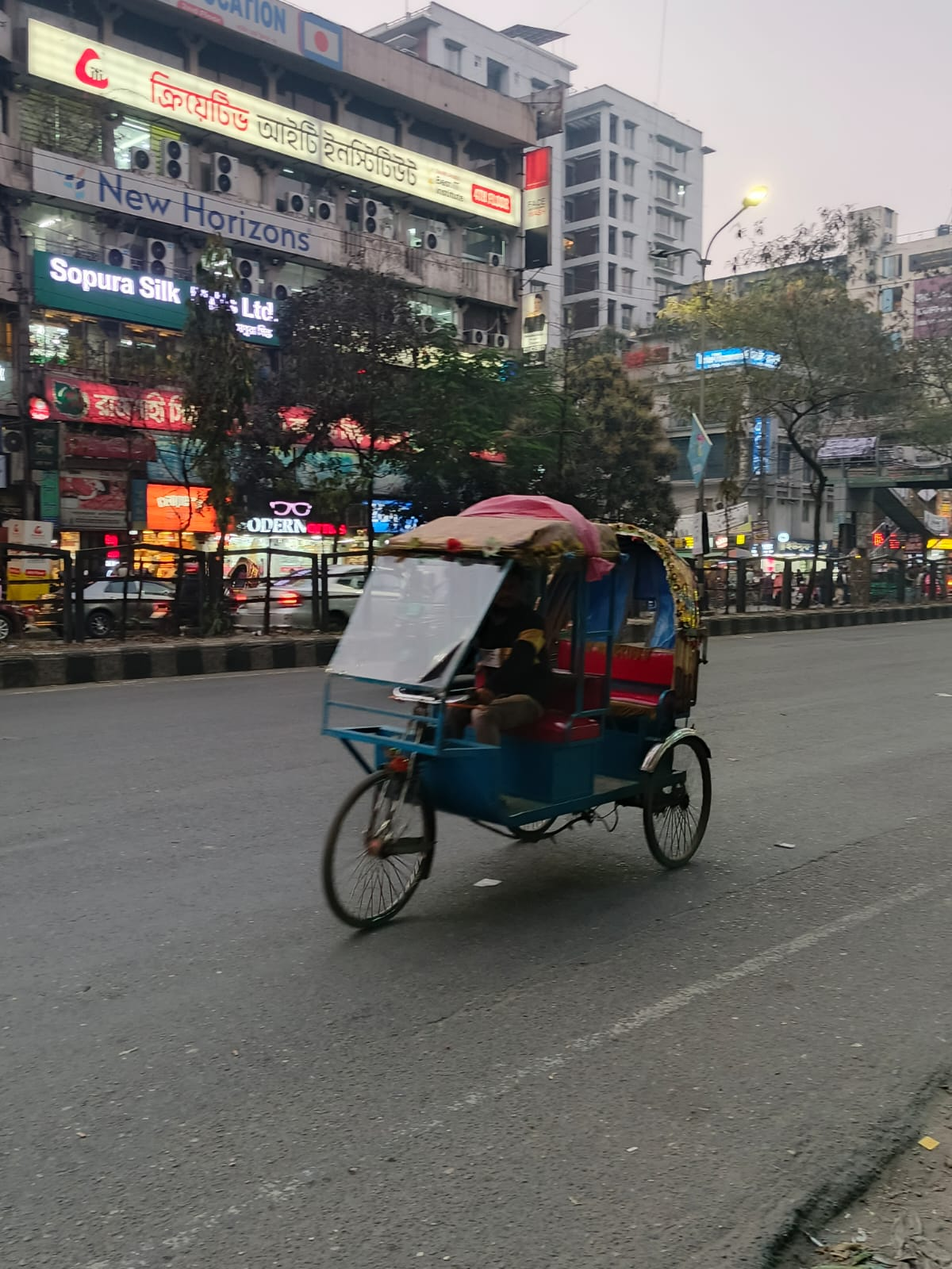auto-ricksaw: (233, 479, 905, 980)
private car: (85, 535, 379, 659)
